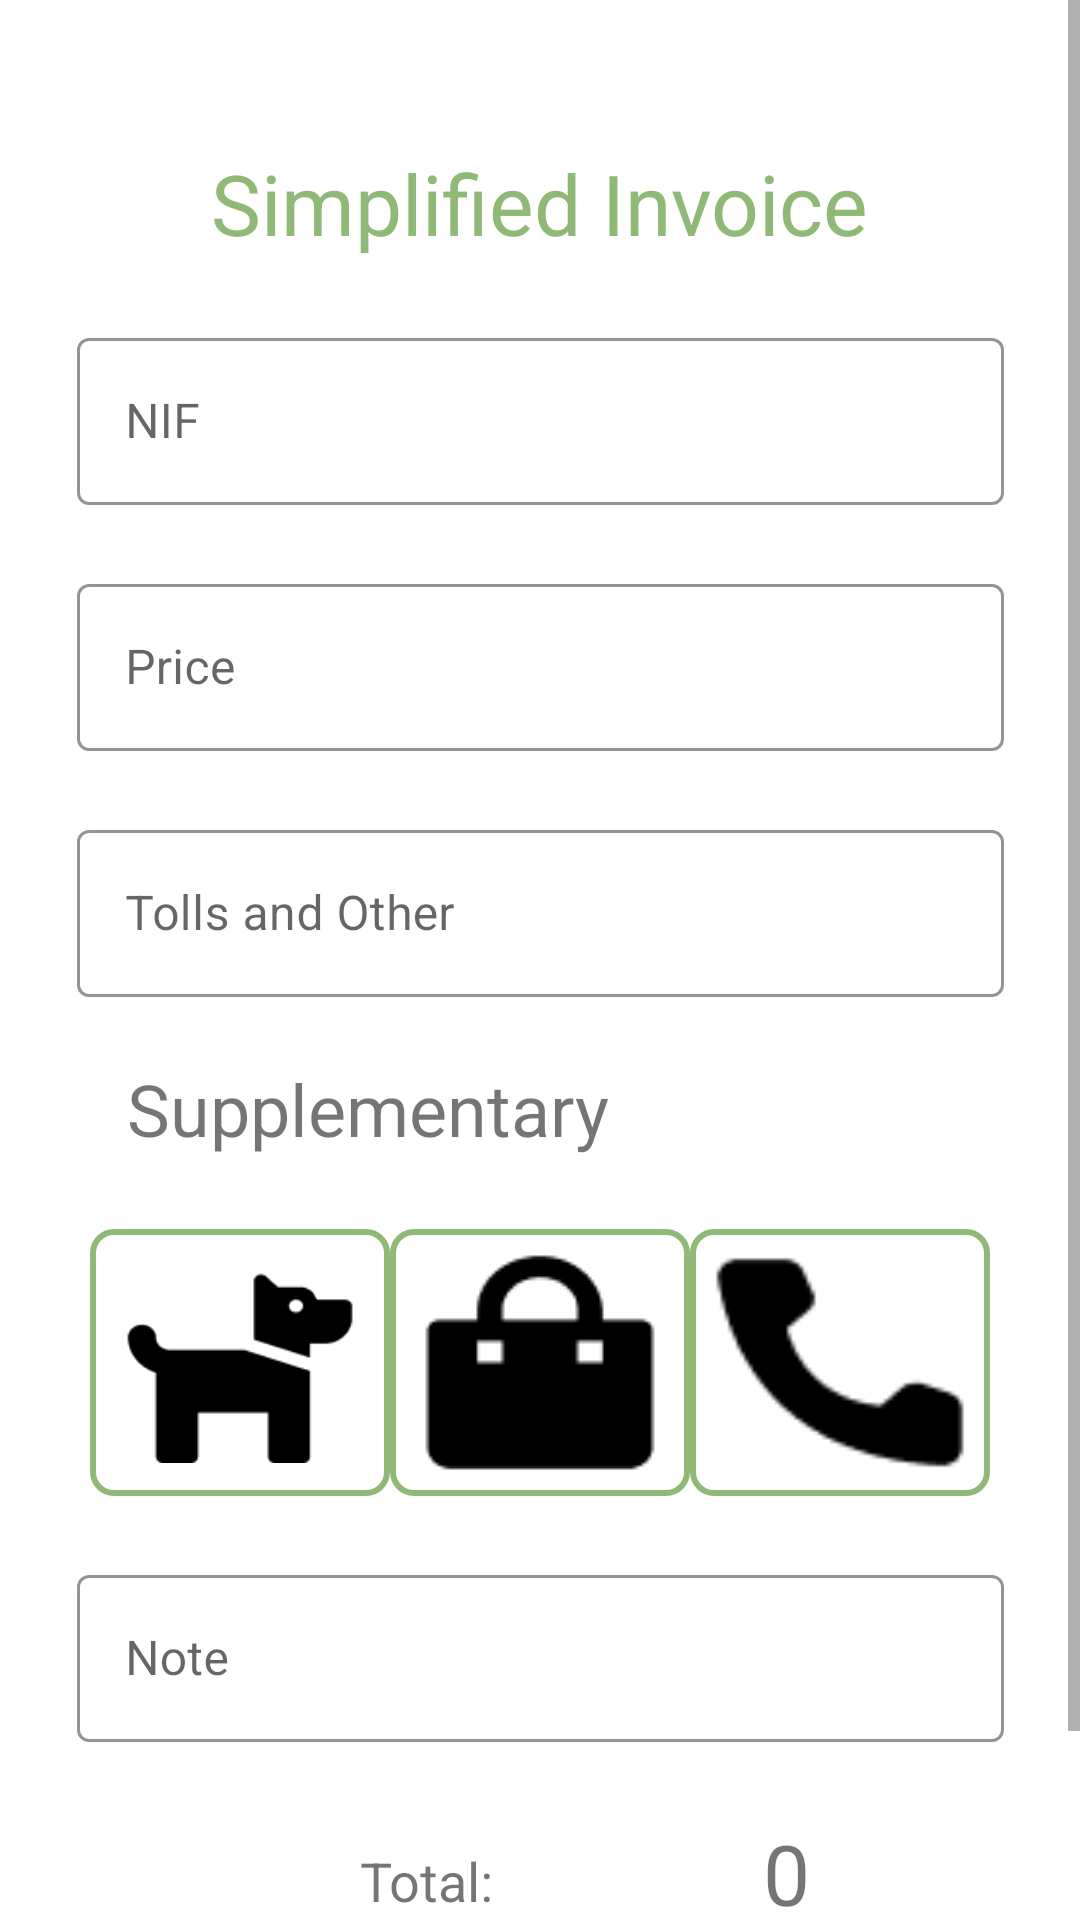

Icons on this 1080*1920 Android screen, each with the point to tap as [x,y]:
bag: [540,1362]
dog: [240,1368]
phone: [840,1362]
